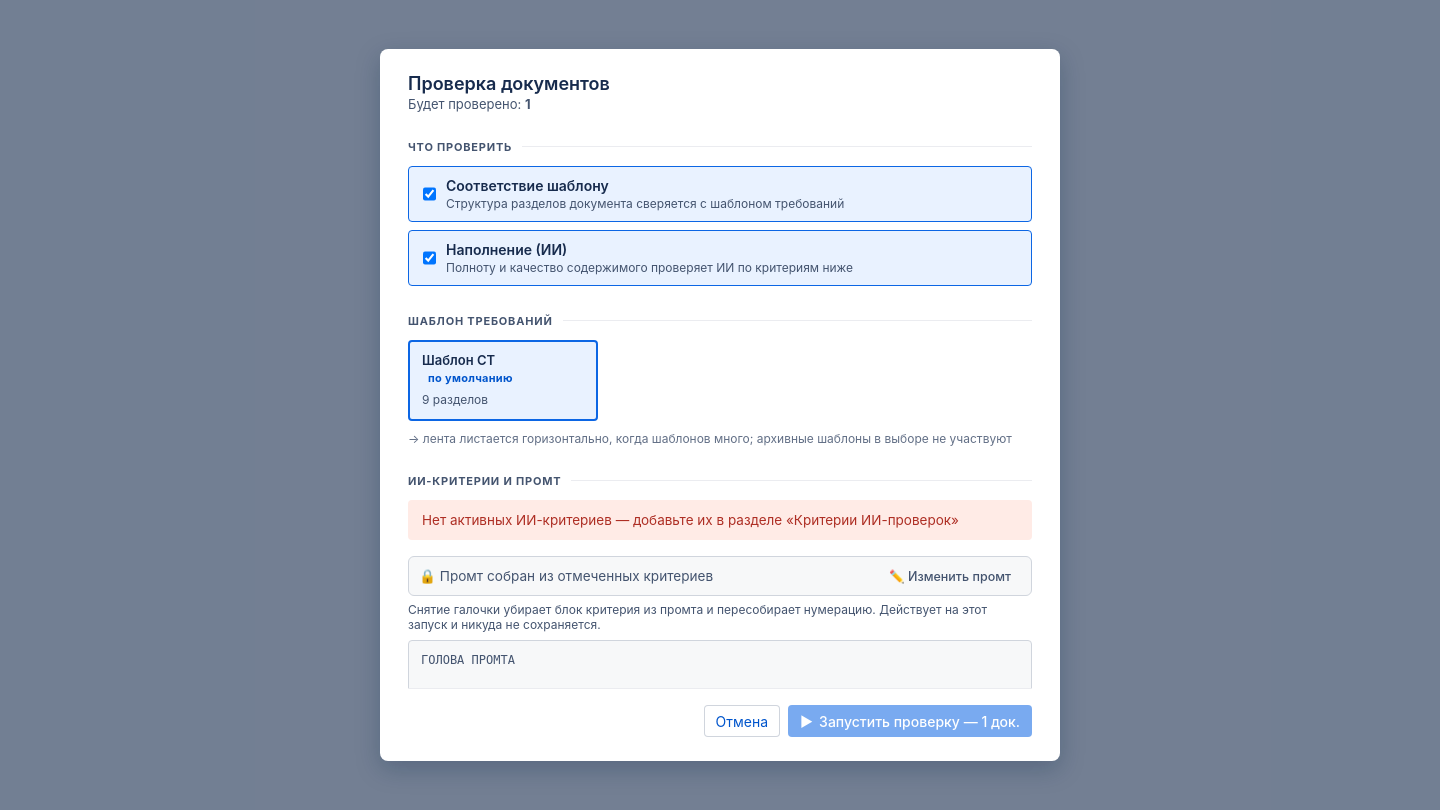
Scenario: ValidationDialog: ИИ-критерии и замок промта › активных критериев нет — подсказка, запуск только без наполнения
Expected: the text "Нет активных ИИ-критериев — добавьте их в разделе" is shown, x1=422 y1=512 x2=959 y2=528
Expected: the button "▶ Запустить проверку — 1 док." is disabled, x1=788 y1=705 x2=1032 y2=737
Click the checkbox labelled "Наполнение". click: (430, 258)
box: x1=423 y1=241 x2=436 y2=275
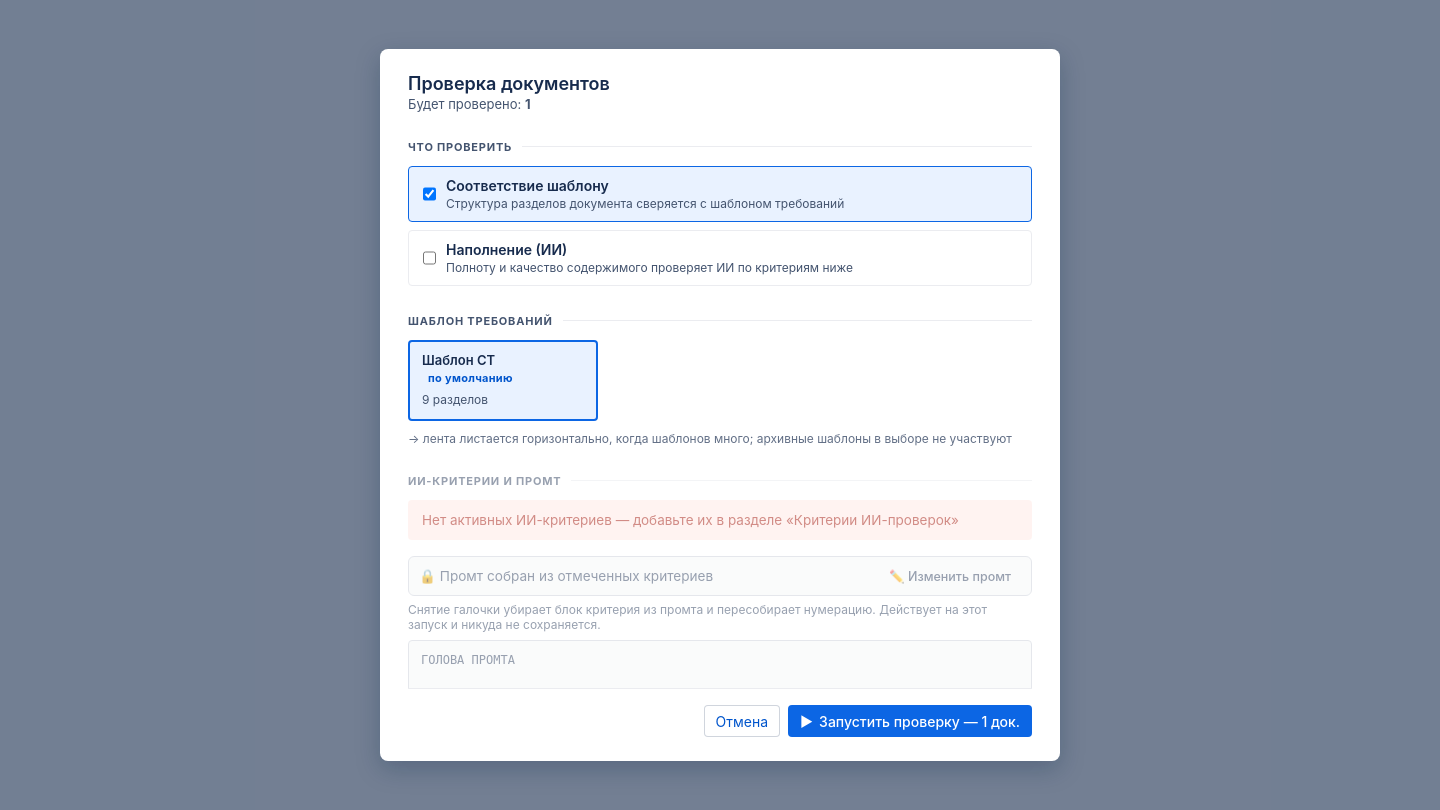
Now the button "▶ Запустить проверку — 1 док." is enabled, box x1=788 y1=705 x2=1032 y2=737
